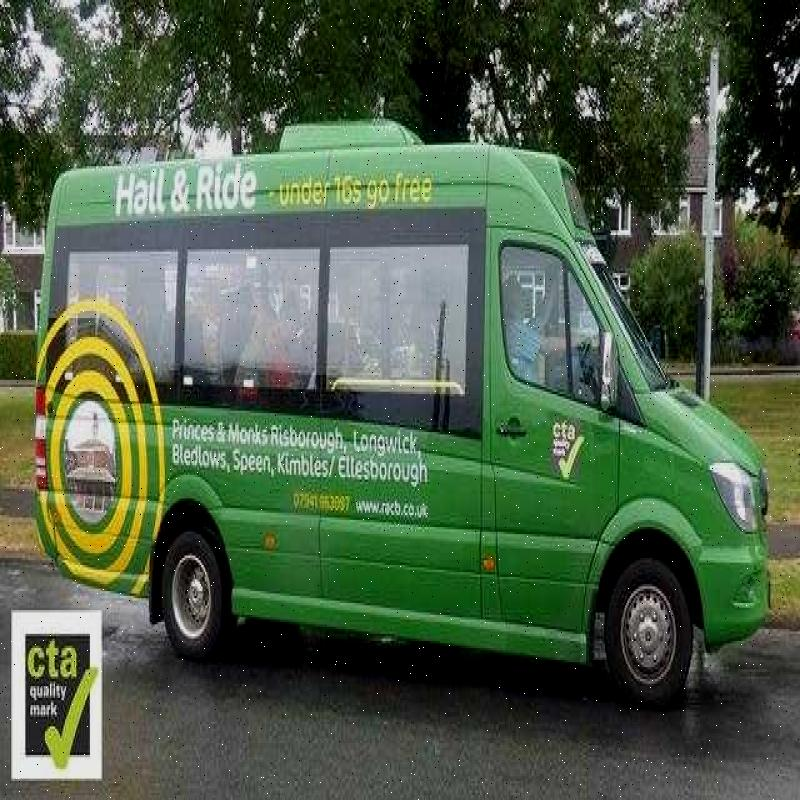bus: (38, 134, 789, 694)
